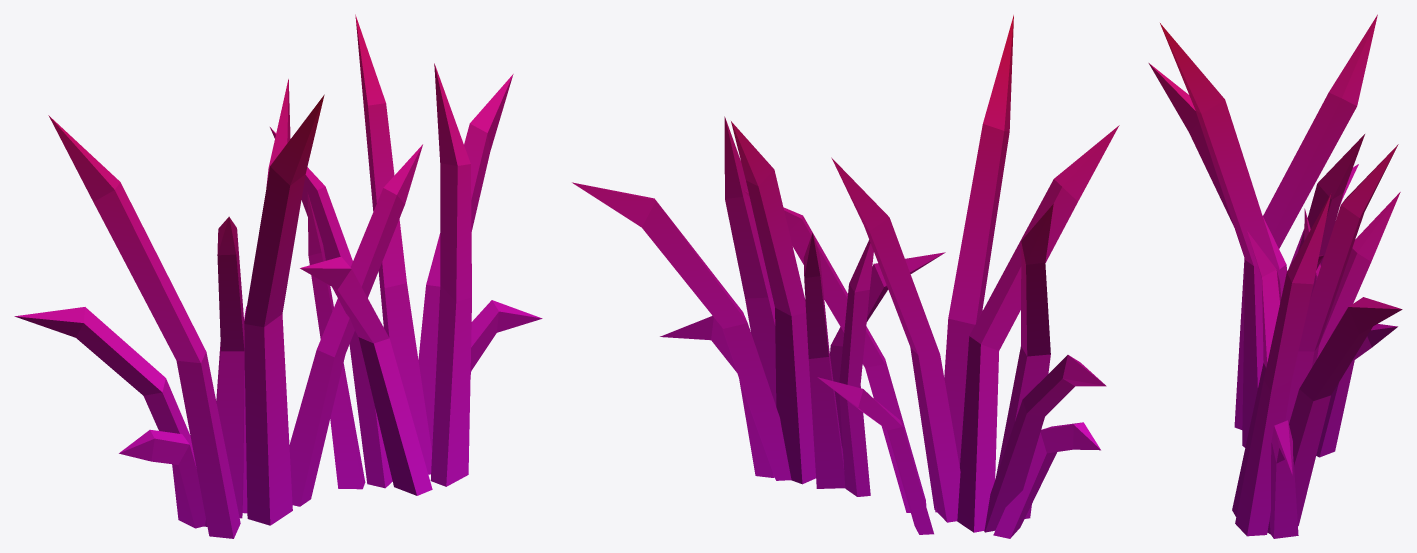
The model's file is SM_Plant_Grass_04.gltf.
The picture shows the model from 3 angles, left to right: view 1: azimuth 30°, elevation 25°; view 2: azimuth 150°, elevation 25°; view 3: azimuth 270°, elevation 25°; orthographic projection. The views are drawn at different scales.
Visible parts, largest first — view 1: SM_Plant_Grass_04; view 2: SM_Plant_Grass_04; view 3: SM_Plant_Grass_04.
Boxes of the visible parts, x1,y1,x2,y2 form: SM_Plant_Grass_04: [14, 14, 542, 538]; SM_Plant_Grass_04: [572, 15, 1119, 538]; SM_Plant_Grass_04: [1148, 14, 1402, 538].
Size of the model in its own units: 0.8185 by 0.694 by 0.3729.
